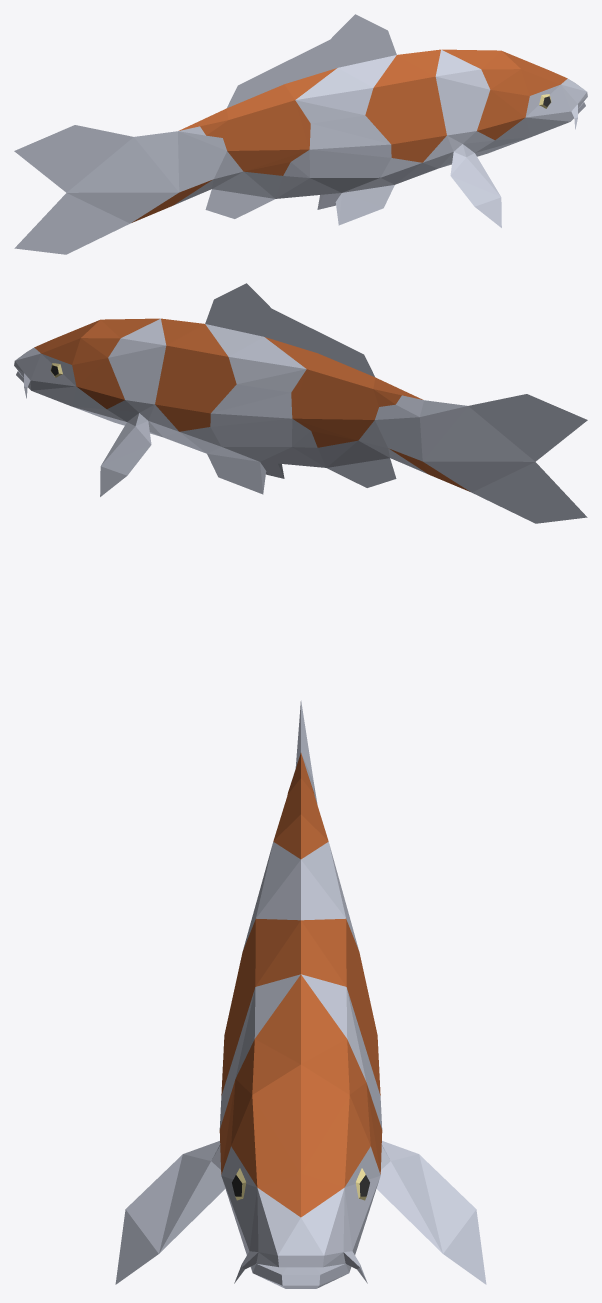
The model's file is Koi.fbx.
3 views of the same model, one above another, from view 1: azimuth 30°, elevation 25°; view 2: azimuth 150°, elevation 25°; view 3: azimuth 270°, elevation 25° (orthographic). The views are drawn at different scales.
Parts seen in each view (by area): view 1: Koi; view 2: Koi; view 3: Koi.
Part boxes in pixels (box(x1,y1,x2,y2)): Koi: box(14, 14, 587, 254); Koi: box(14, 283, 587, 523); Koi: box(115, 700, 486, 1288).
Size of the model in its own units: 3.08 by 1.06 by 0.8702.
